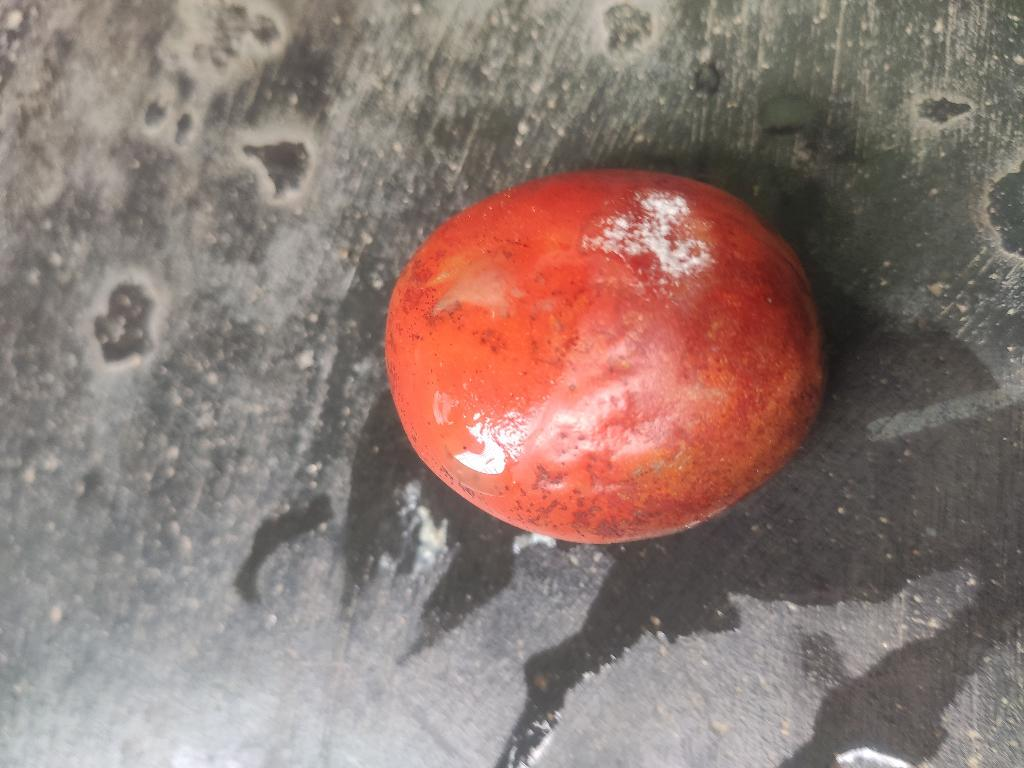rot_mold_decay: (584, 192, 714, 279)
tomato: (433, 264, 509, 317)
